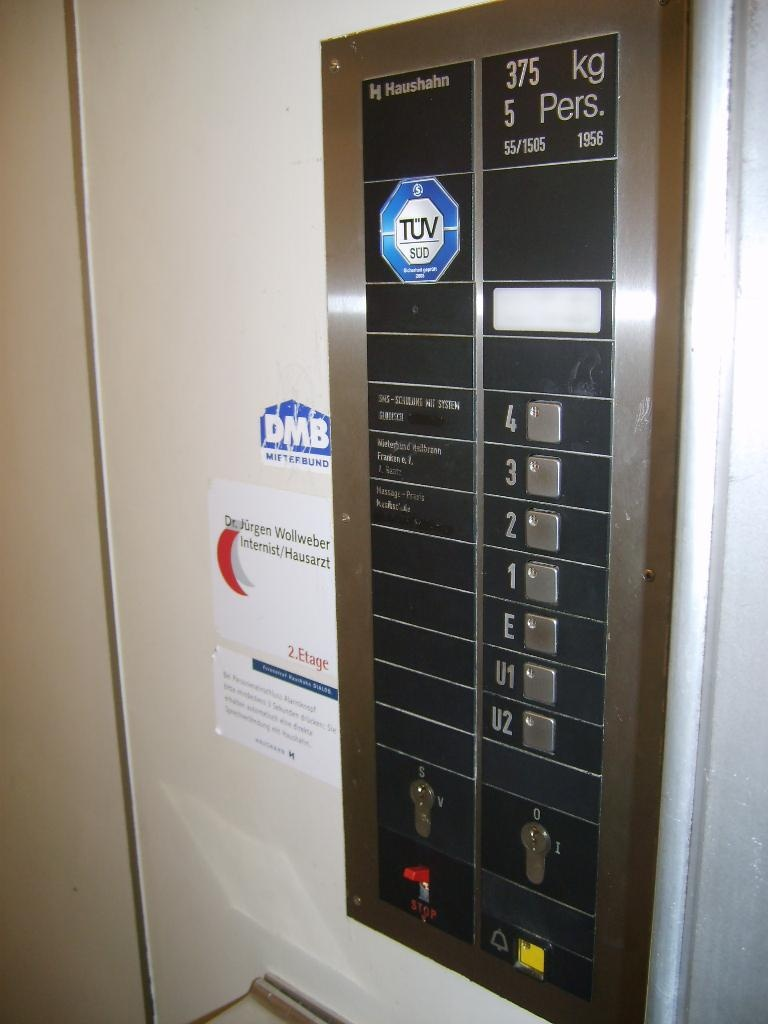1: (480, 550, 612, 615)
2: (480, 493, 613, 568)
3: (481, 443, 615, 514)
4: (481, 387, 615, 458)
E: (479, 598, 611, 670)
U1: (479, 643, 611, 715)
U2: (477, 697, 609, 769)
alarm: (478, 910, 601, 1011)
empty: (491, 284, 603, 335)
keyhole: (519, 820, 551, 885), (408, 780, 436, 838)
stop: (399, 865, 440, 922)
